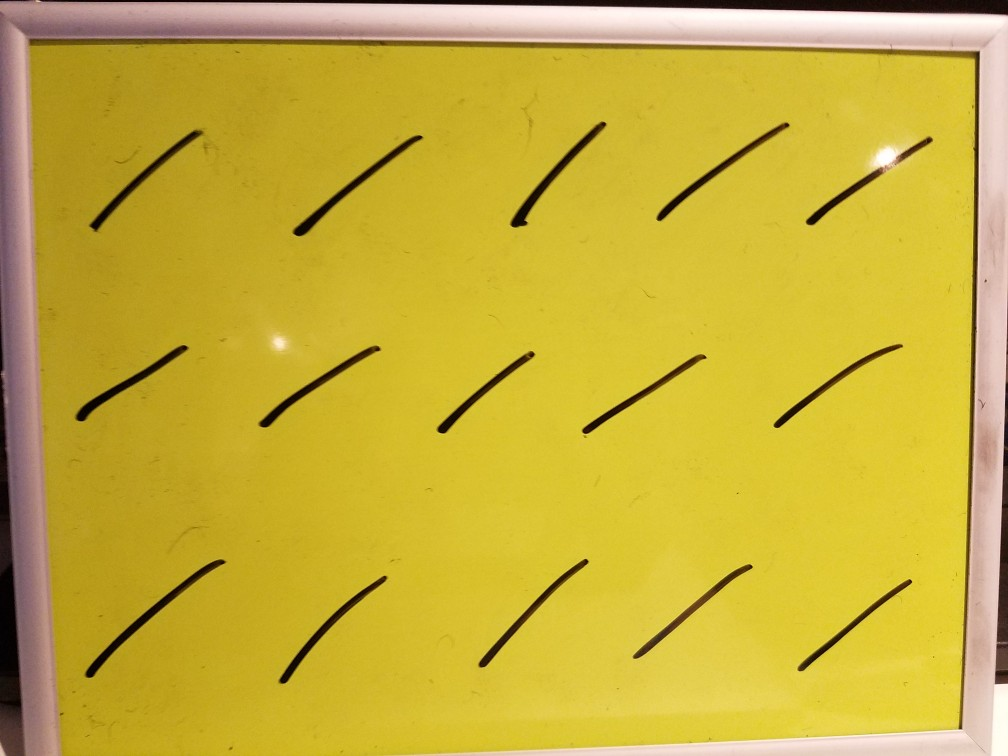/: (69, 534, 228, 694), (564, 317, 727, 466), (760, 309, 916, 462), (448, 536, 603, 687), (257, 542, 406, 693), (621, 536, 763, 691), (69, 110, 211, 251), (646, 105, 792, 240), (785, 550, 922, 689), (285, 115, 428, 247), (417, 322, 551, 459), (246, 327, 386, 451), (798, 126, 938, 248), (63, 327, 198, 450), (503, 107, 611, 244)
